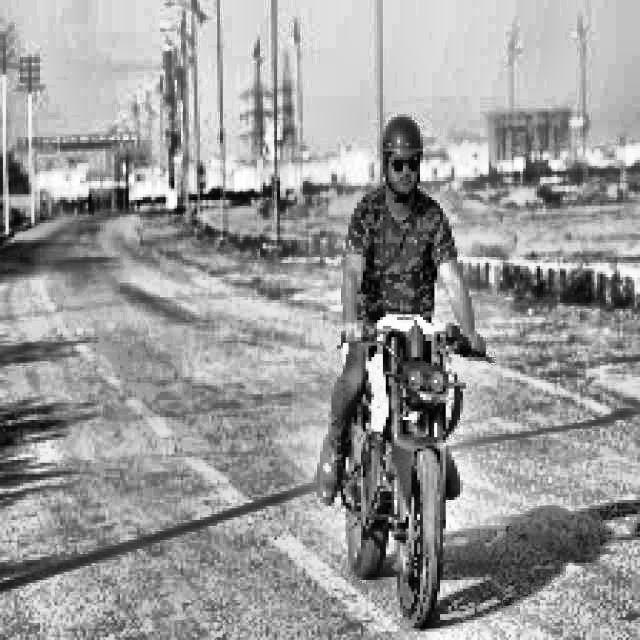motorcycle: (294, 276, 512, 622)
